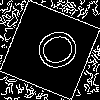O: (25, 25, 82, 78)
